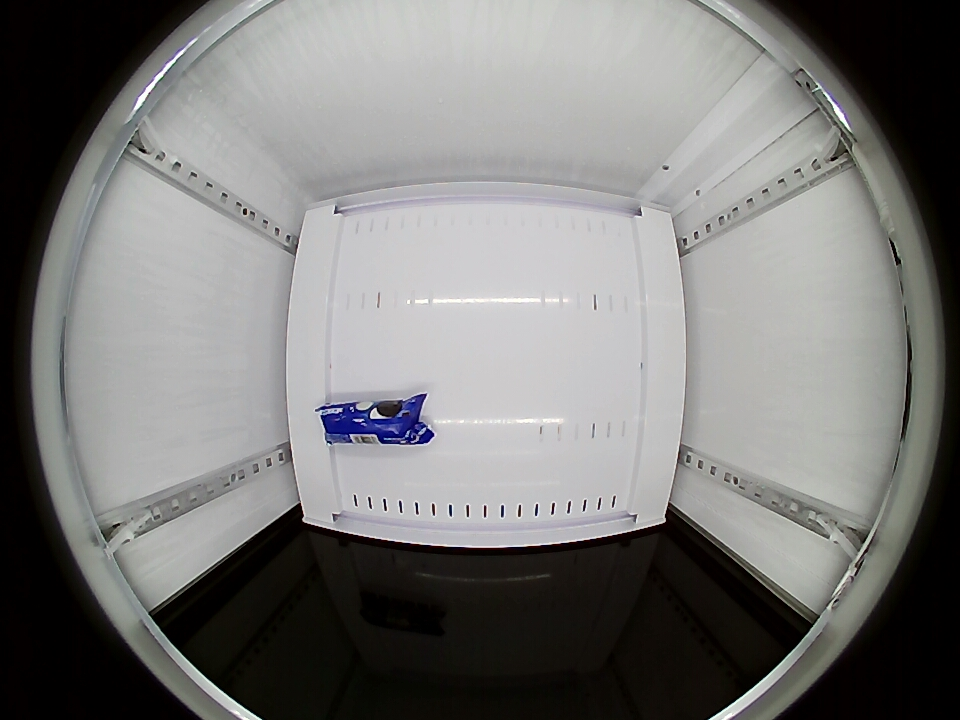aoliao: (316, 398, 427, 447)
